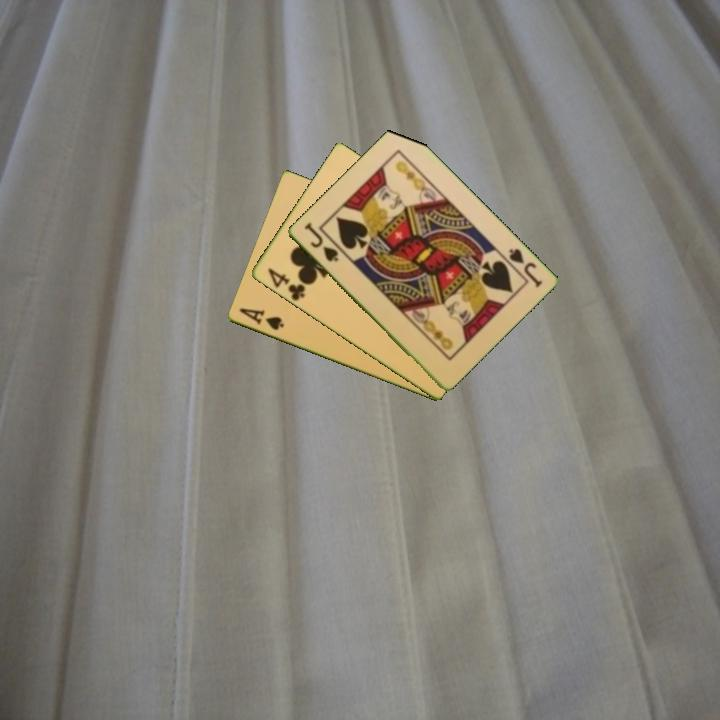4c: (264, 264, 308, 304)
As: (235, 305, 286, 333)
Js: (505, 245, 545, 291), (300, 220, 341, 264)
